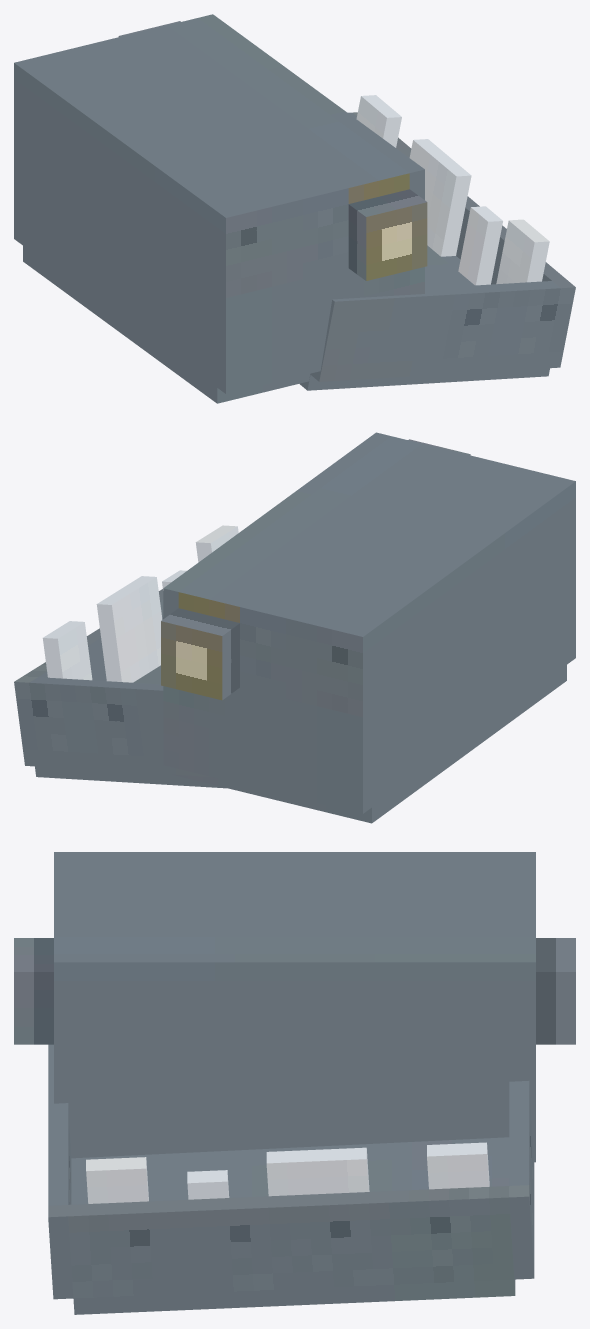
The model's file is av_beard_white.glb.
3 views of the same model, one above another, from view 1: azimuth 30°, elevation 25°; view 2: azimuth 150°, elevation 25°; view 3: azimuth 270°, elevation 25° (orthographic). The views are drawn at different scales.
Parts seen in each view (by area): view 1: Jaw-Local, Chin-Local; view 2: Jaw-Local, Chin-Local; view 3: Jaw-Local, Chin-Local.
Boxes of the visible parts, <box> form: Jaw-Local: <box>14,14,427,403</box>; Chin-Local: <box>299,95,575,390</box>; Jaw-Local: <box>161,432,575,823</box>; Chin-Local: <box>14,525,238,788</box>; Jaw-Local: <box>14,852,575,1162</box>; Chin-Local: <box>48,1044,534,1314</box>.
Size of the model in its own units: 22.91 by 15.35 by 28.
Materials: 2 (2 with a texture image).
